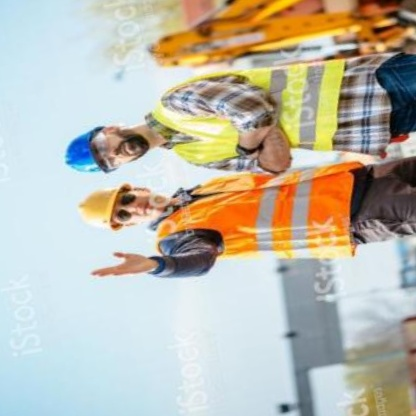blue: (50, 121, 116, 192)
vest: (139, 148, 382, 298), (141, 46, 365, 186)
yellow: (66, 179, 145, 246)
